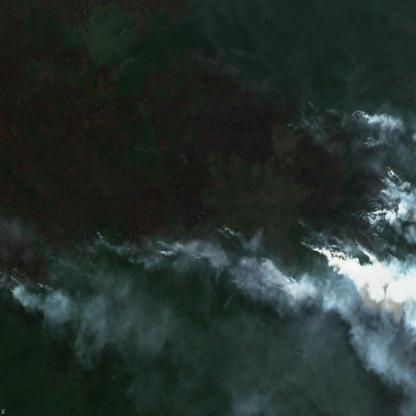fire: (0, 105, 416, 308)
